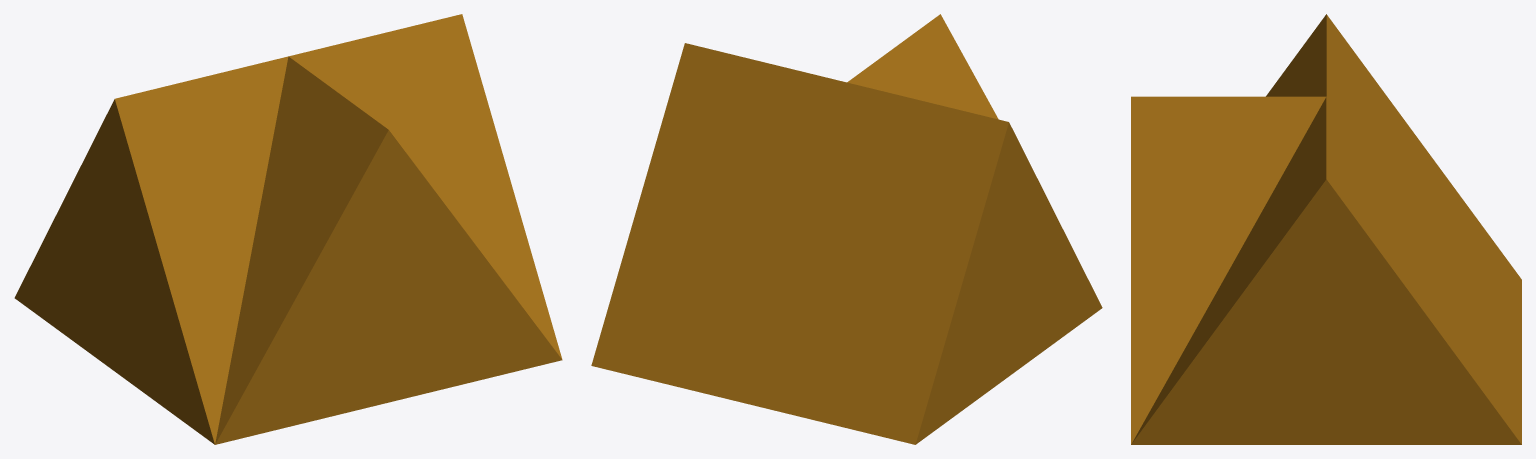
File: Roof-Steep-4x4x3-Gable-Tee.FBX
3 views of the same model, side by side, from view 1: azimuth 30°, elevation 25°; view 2: azimuth 150°, elevation 25°; view 3: azimuth 270°, elevation 25° (orthographic). The views are drawn at different scales.
Parts seen in each view (by area): view 1: Roof-Steep-4x4x3-Gable-Tee; view 2: Roof-Steep-4x4x3-Gable-Tee; view 3: Roof-Steep-4x4x3-Gable-Tee.
Part boxes in pixels (x1,y1,x2,y2): Roof-Steep-4x4x3-Gable-Tee: [14, 14, 562, 444]; Roof-Steep-4x4x3-Gable-Tee: [591, 14, 1102, 444]; Roof-Steep-4x4x3-Gable-Tee: [1131, 14, 1521, 444].
Bounding box in the file's own units: 40 × 40 × 30.
